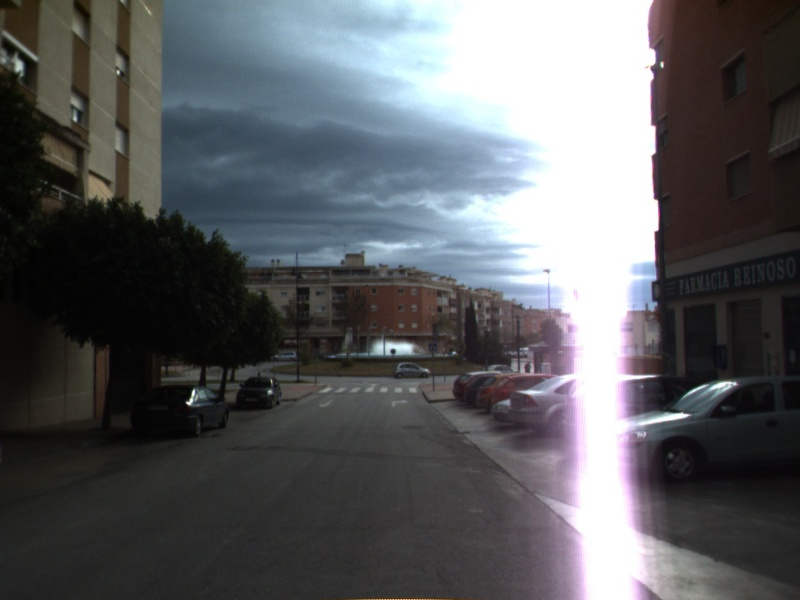RIGHT: (390, 397, 410, 409)
